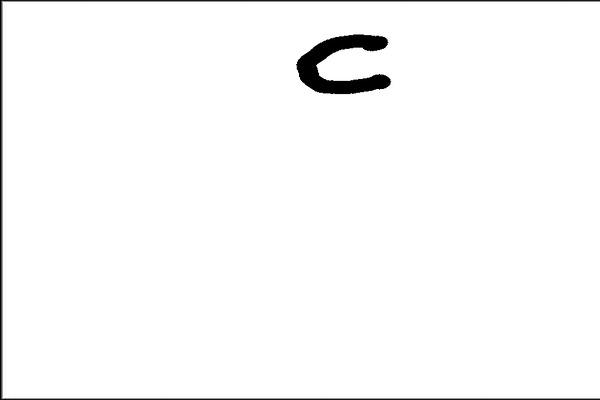C: (289, 28, 396, 97)
